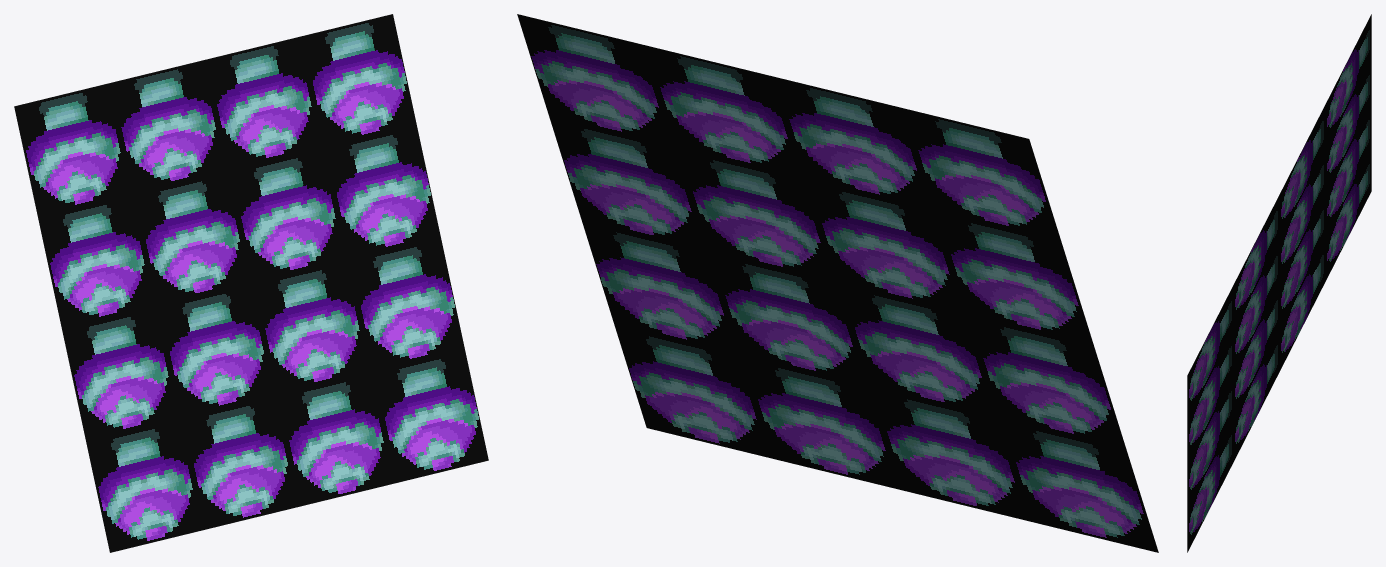
Rendered from kinoko_b01.gltf.
3 views of the same model, side by side, from view 1: azimuth 30°, elevation 25°; view 2: azimuth 150°, elevation 25°; view 3: azimuth 270°, elevation 25° (orthographic). The views are drawn at different scales.
Visible parts, largest first — view 1: kinoko_b01; view 2: kinoko_b01; view 3: kinoko_b01.
Boxes of the visible parts, x1,y1,x2,y2 form: kinoko_b01: (14,14,488,552); kinoko_b01: (517,14,1158,552); kinoko_b01: (1187,14,1371,552).
Size of the model in its own units: 0.6023 by 0.5718 by 0.2639.
Materials: 1 (1 with a texture image).
